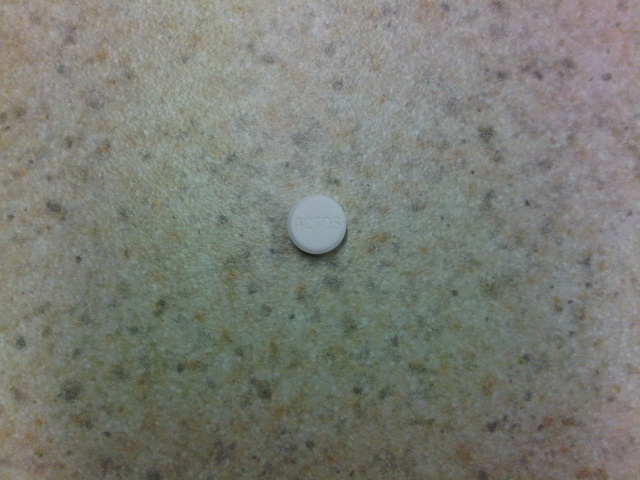A: (292, 215, 303, 231)
C: (304, 215, 313, 232)
O: (323, 216, 333, 233)
S: (333, 215, 343, 232)
T: (314, 215, 323, 232)
